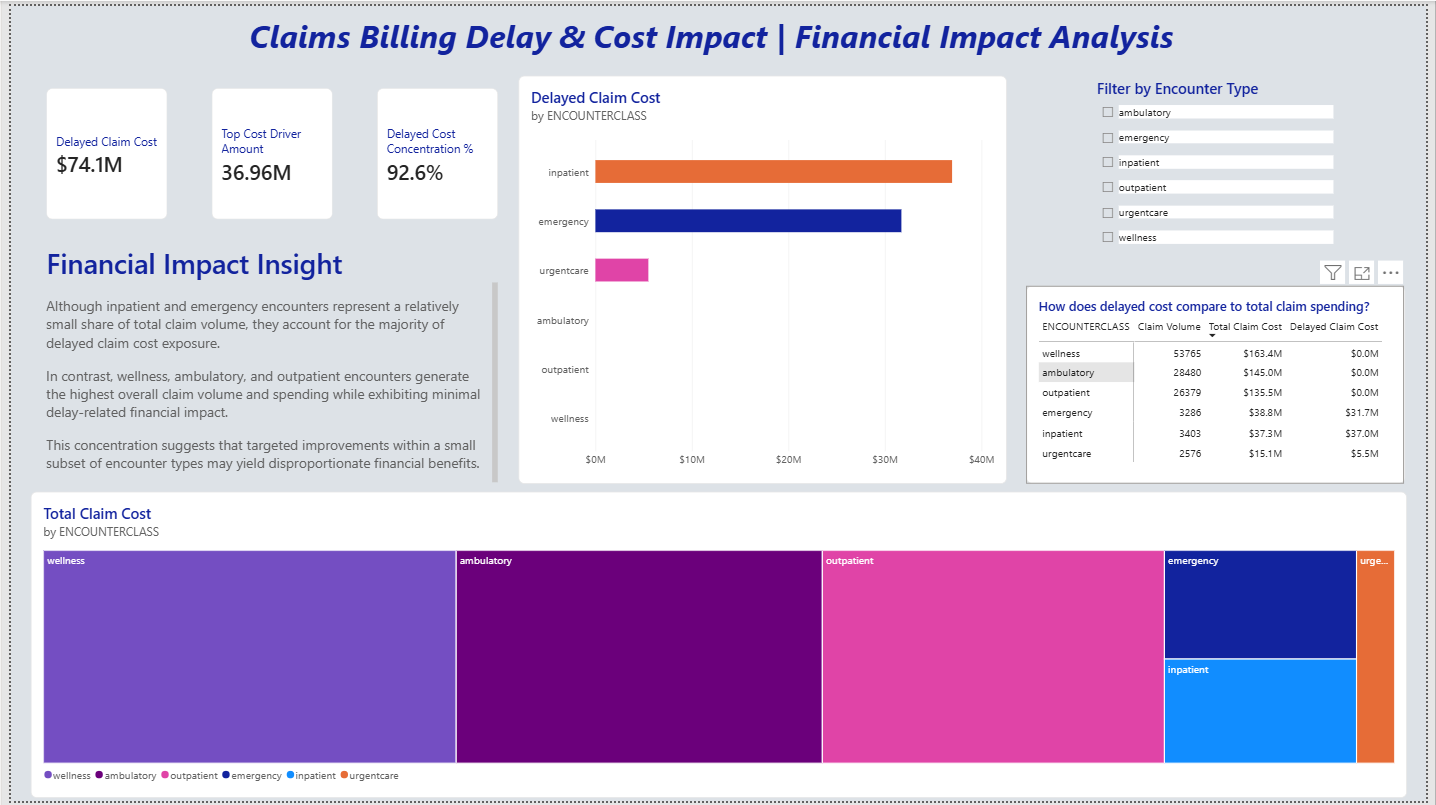

The page's visual inventory and layout, read from the dashboard file:
{"tool":"powerbi","page":{"name":"Financial Impact Analysis","canvas":[1920,1080],"ordinal":2},"visuals":[{"type":"clusteredBarChart","fields":{"Category":["12_Billing_Delay_Detail.ENCOUNTERCLASS"],"Y":["Measures (2).Delayed Claim Cost"]},"box":[688.6,94.3,662.9,554.3],"z":0},{"type":"treemap","fields":{"Group":["12_Billing_Delay_Detail.ENCOUNTERCLASS"],"Values":["Measures (2).Total Claim Cost"]},"box":[26.4,658.6,1867.1,415.7],"z":1000},{"type":"pivotTable","title":"How does delayed cost compare to total claim spending?","fields":{"Rows":["12_Billing_Delay_Detail.ENCOUNTERCLASS"],"Values":["Measures (2).Claim Volume","Measures (2).Total Claim Cost","Measures (2).Delayed Claim Cost"]},"box":[1377.1,380,514.3,268.6],"z":2000},{"type":"slicer","title":"Filter by Encounter Type","fields":{"Values":["12_Billing_Delay_Detail.ENCOUNTERCLASS"]},"box":[1472.9,98.6,321.4,271.4],"z":3000},{"type":"textbox","title":"Financial Impact Insight","box":[48.6,322.9,612.9,325.7],"z":4000},{"type":"textbox","box":[10,11.4,1881.4,68.6],"z":5000},{"type":"cardVisual","fields":{"Data":["Measures (2).Delayed Claim Cost"]},"box":[48.6,111.4,164,178],"z":6000},{"type":"cardVisual","fields":{"Data":["Measures (2).Top Cost Driver Amount"]},"box":[272.7,111.4,164.3,178.6],"z":8000},{"type":"cardVisual","fields":{"Data":["Measures (2).Delayed Cost Concentration %"]},"box":[497.1,111.4,164.3,178.6],"z":9000}]}

Visuals, with their boxes in screenshot pixels (x1, y1, x2, y2), scaled from the page's 1920x1080 canvas onto the 1436x805 screenshot:
clusteredBarChart - 12_Billing_Delay_Detail.ENCOUNTERCLASS x Measures (2).Delayed Claim Cost: x1=515 y1=70 x2=1011 y2=483
treemap - 12_Billing_Delay_Detail.ENCOUNTERCLASS x Measures (2).Total Claim Cost: x1=20 y1=491 x2=1416 y2=801
"How does delayed cost compare to total claim spending?" pivotTable: x1=1030 y1=283 x2=1415 y2=483
"Filter by Encounter Type" slicer: x1=1102 y1=73 x2=1342 y2=276
"Financial Impact Insight" textbox: x1=36 y1=241 x2=495 y2=483
textbox: x1=7 y1=8 x2=1415 y2=60
cardVisual - Measures (2).Delayed Claim Cost: x1=36 y1=83 x2=159 y2=216
cardVisual - Measures (2).Top Cost Driver Amount: x1=204 y1=83 x2=327 y2=216
cardVisual - Measures (2).Delayed Cost Concentration %: x1=372 y1=83 x2=495 y2=216
